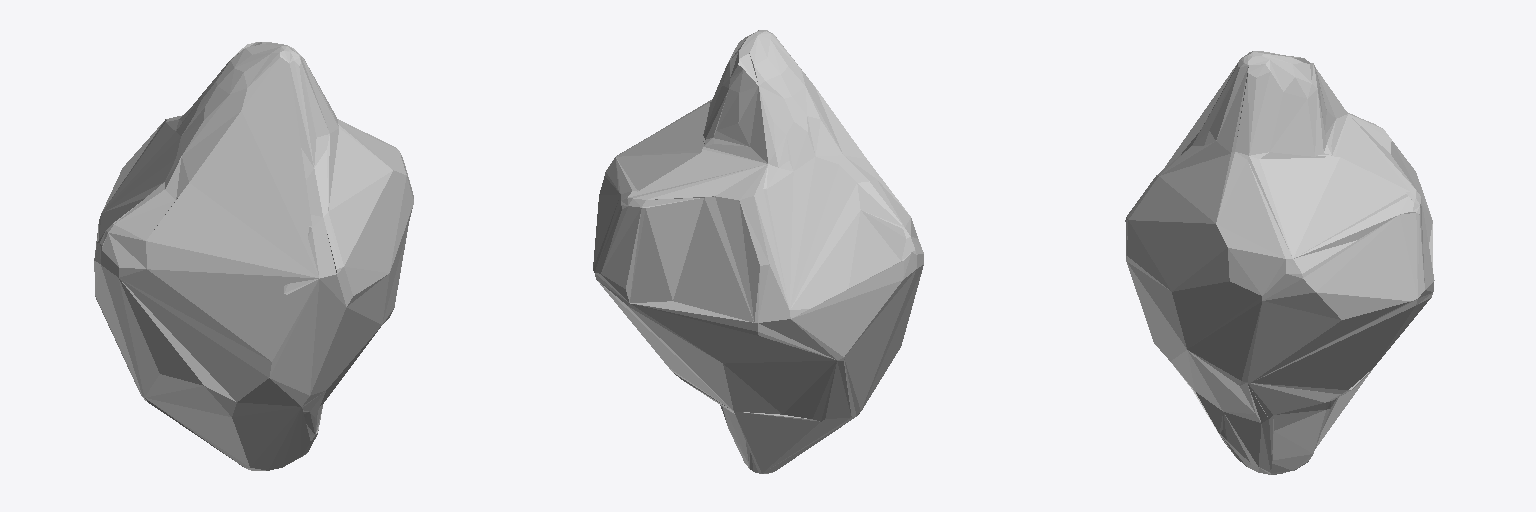
Rendered from floatyboulder1.obj.
3 views of the same model, side by side, from view 1: azimuth 30°, elevation 25°; view 2: azimuth 150°, elevation 25°; view 3: azimuth 270°, elevation 25° (orthographic).
Parts seen in each view (by area): view 1: Cube.002; view 2: Cube.002; view 3: Cube.002.
Boxes of the visible parts, <box> form: Cube.002: <box>94,42,413,470</box>; Cube.002: <box>593,30,923,473</box>; Cube.002: <box>1125,51,1434,474</box>.
Bounding box in the file's own units: 2.45 × 3.26 × 2.16.